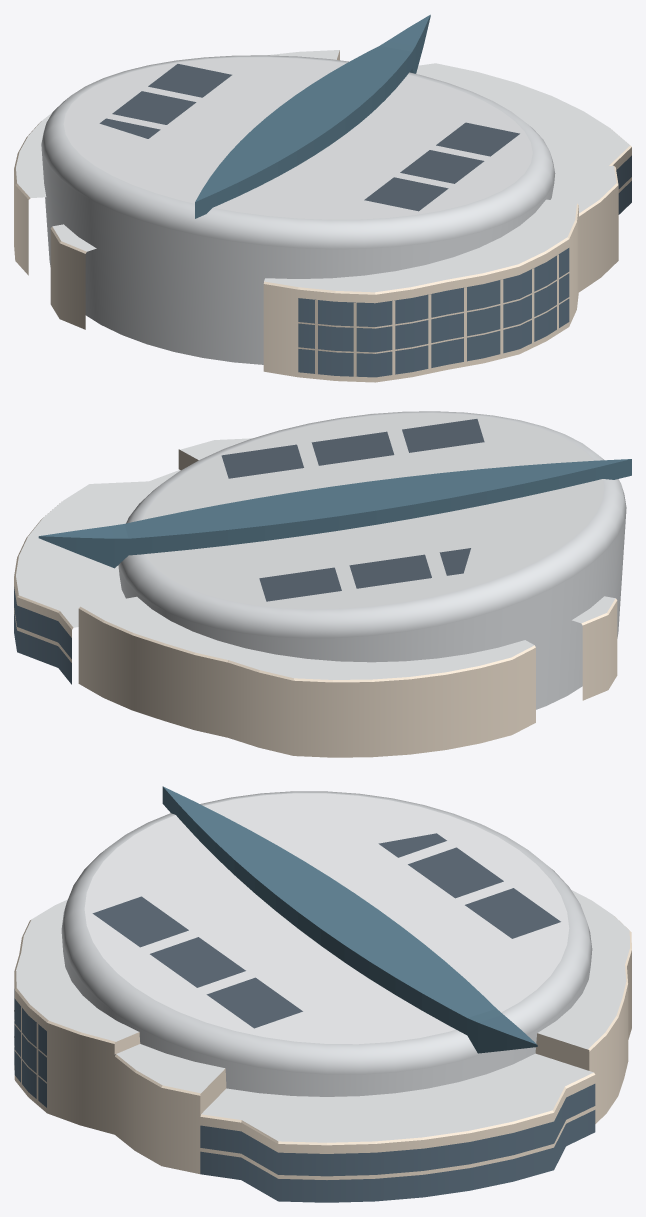
Rendered from la-crypto-arena.glb.
3 views of the same model, one above another, from view 1: azimuth 30°, elevation 25°; view 2: azimuth 150°, elevation 25°; view 3: azimuth 270°, elevation 25° (orthographic). The views are drawn at different scales.
Parts seen in each view (by area): view 1: Crypto.com Arena; view 2: Crypto.com Arena; view 3: Crypto.com Arena.
Boxes of the visible parts, x1=… form: Crypto.com Arena: x1=14, y1=14, x2=631, y2=382; Crypto.com Arena: x1=14, y1=411, x2=631, y2=757; Crypto.com Arena: x1=14, y1=786, x2=631, y2=1202.
Bounding box in the file's own units: 171 × 47.86 × 161.
